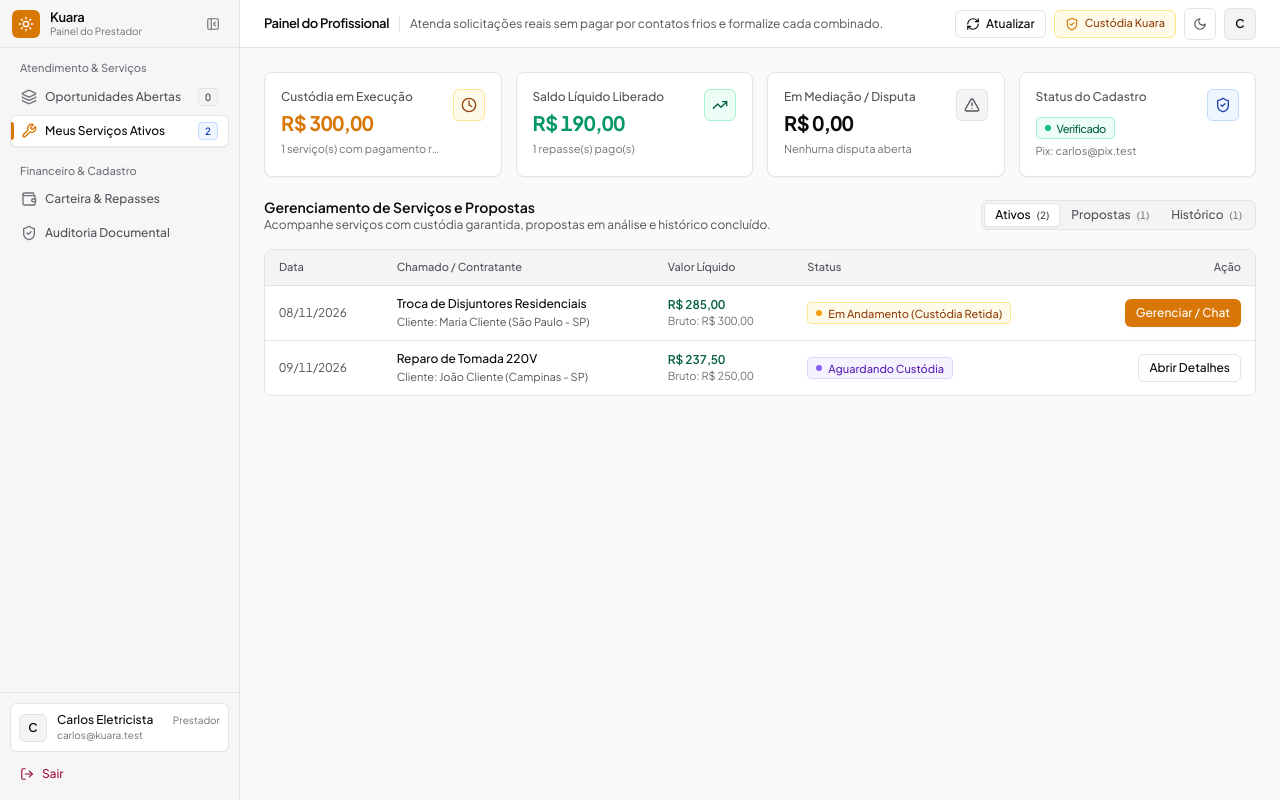
Test: ProviderDashboard Logic & Requirements Compliance › active_jobs tab renders only activeJobs and excludes OPEN, lost bids, and FINISHED jobs
expect the link "Troca de Disjuntores Residenciais" is shown: met, box [397,296,587,311]
expect the link "Reparo de Tomada 220V" is shown: met, box [397,351,537,366]
Click the button "Propostas (1)": point(1110, 214) [1060,202,1160,226]
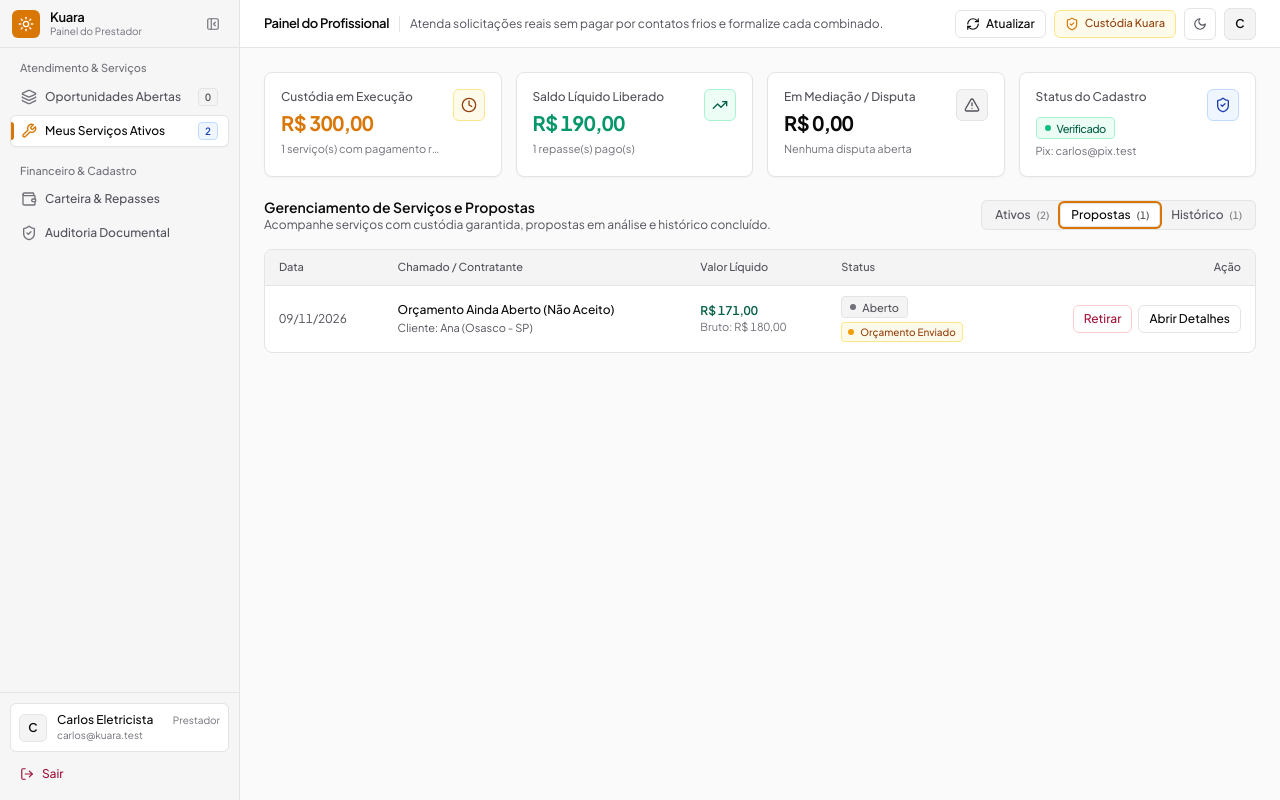
expect the link "Orçamento Ainda Aberto (Não Aceito)" is shown: met, box [398,302,614,317]
expect the link "Troca de Disjuntores Residenciais" is gone: met
Click the button "Histórico (1)": point(1207, 214) [1160,202,1253,226]
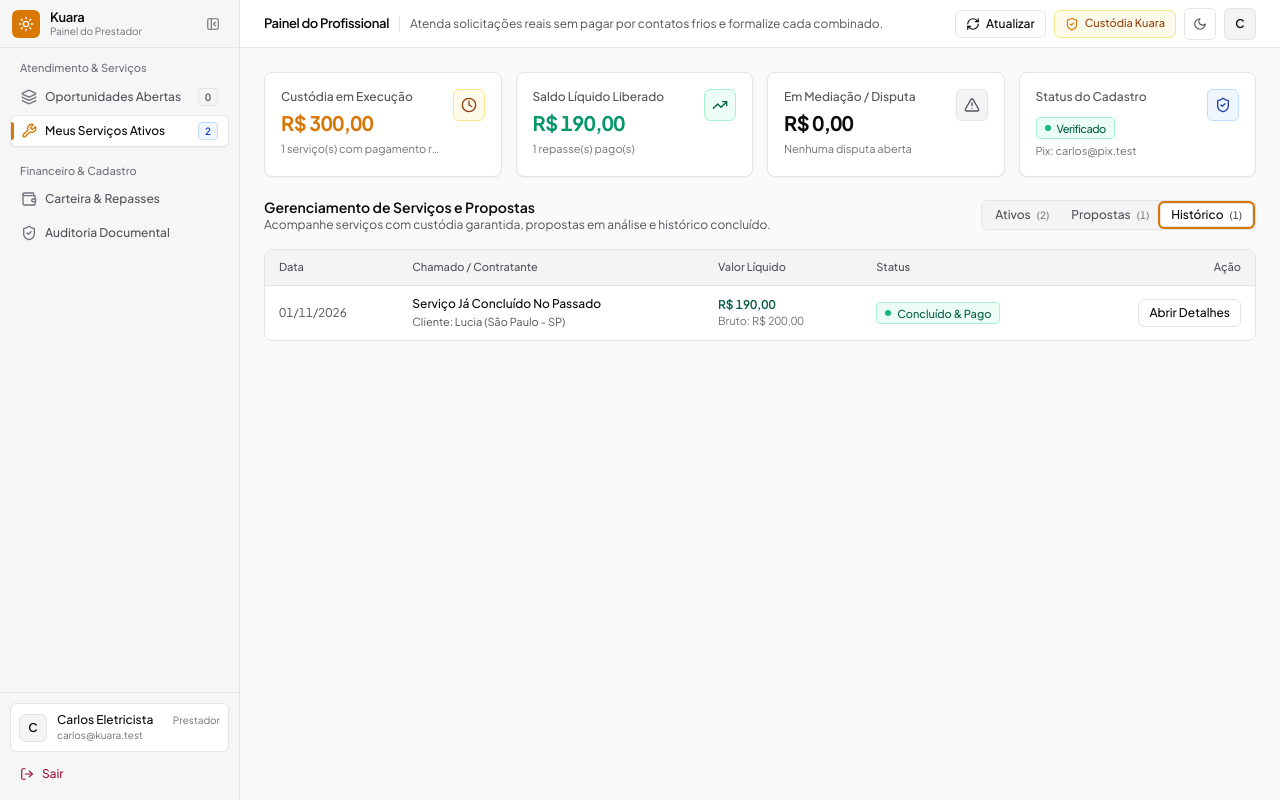
expect the link "Serviço Já Concluído No Passado" is shown: met, box [412,296,601,311]
